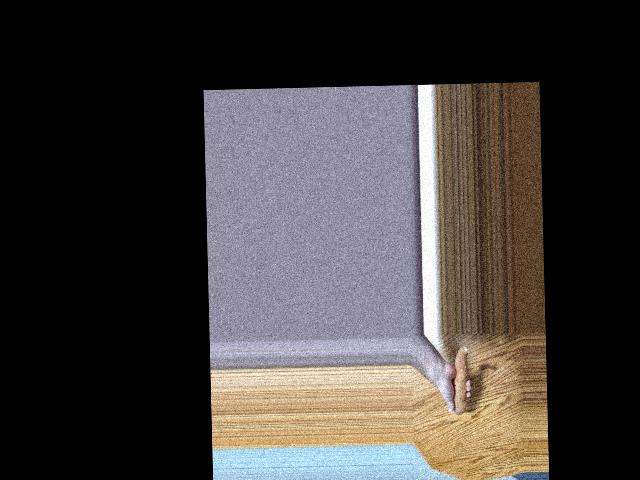sweet_potato: (446, 345, 468, 412)
